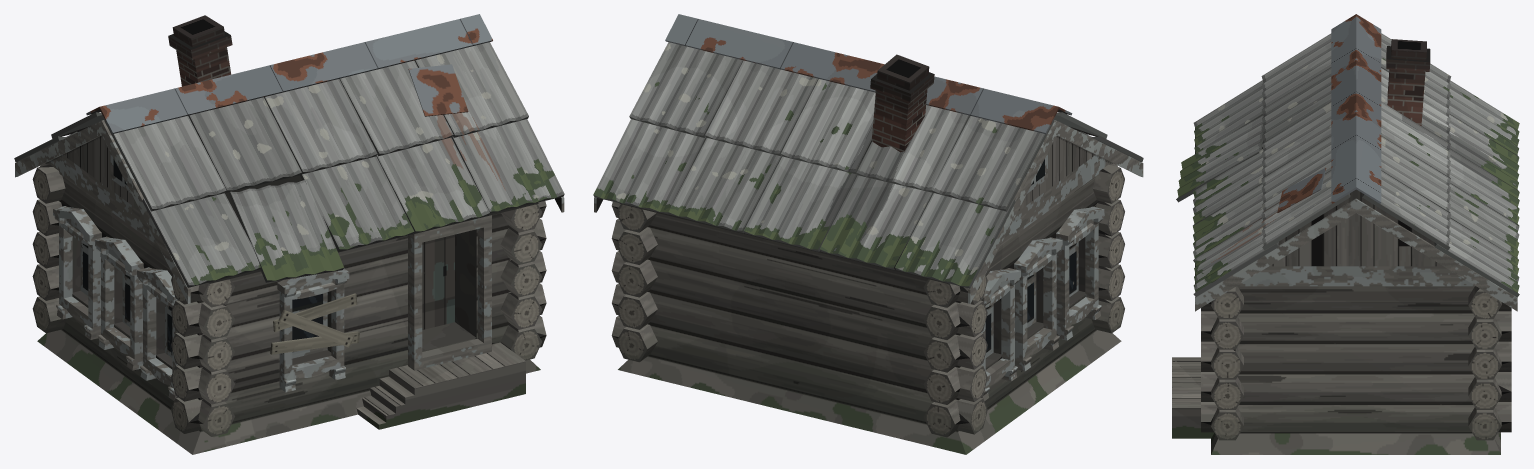
Rendered from SM_IzbaSlate.fbx.
3 views of the same model, side by side, from view 1: azimuth 30°, elevation 25°; view 2: azimuth 150°, elevation 25°; view 3: azimuth 270°, elevation 25° (orthographic). The views are drawn at different scales.
Parts seen in each view (by area): view 1: SM_IzbaSlate; view 2: SM_IzbaSlate; view 3: SM_IzbaSlate.
Part boxes in pixels (left/top/right/bottom): SM_IzbaSlate: left=14, top=14, right=564, bottom=454; SM_IzbaSlate: left=593, top=14, right=1143, bottom=454; SM_IzbaSlate: left=1172, top=14, right=1519, bottom=454.
Size of the model in its own units: 556 by 456 by 472.
Materials: 1 (1 with a texture image).
